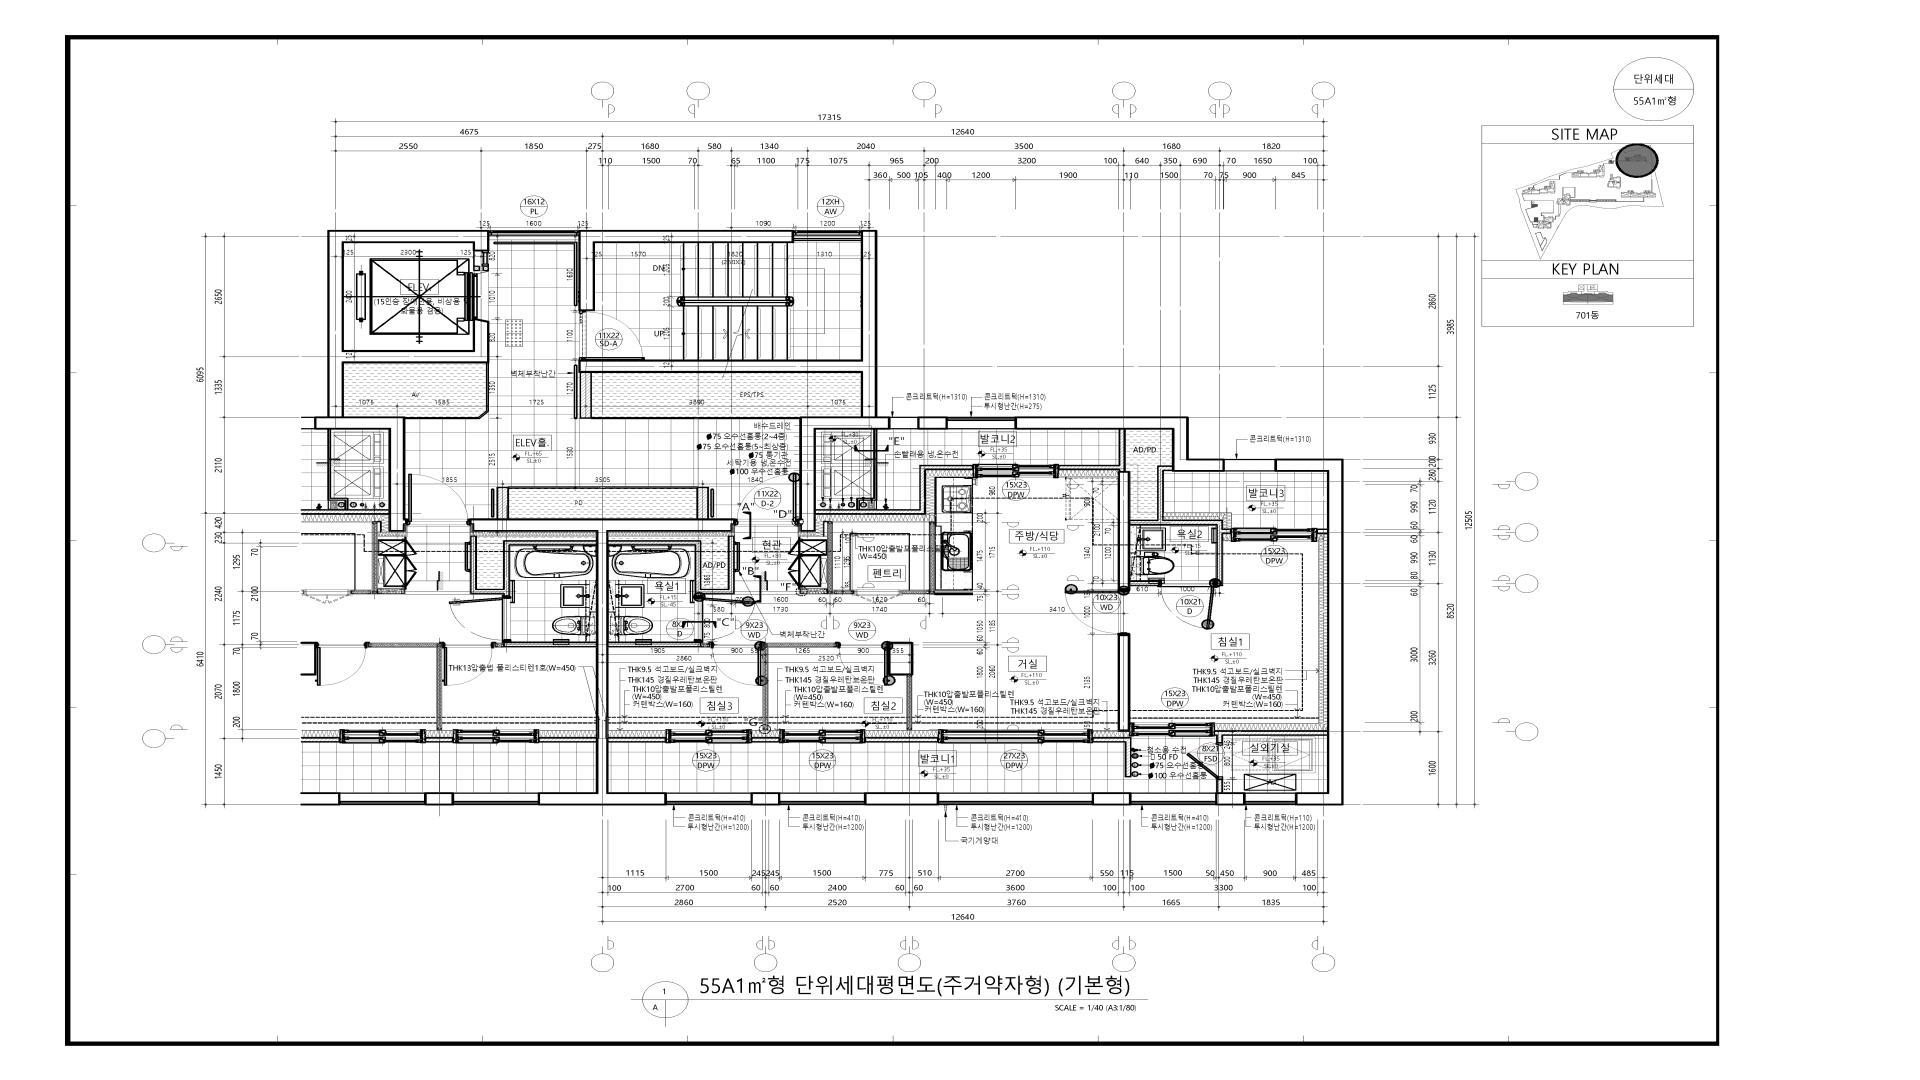door: (579, 311, 645, 360), (736, 473, 796, 526), (694, 595, 757, 642), (1158, 580, 1217, 629), (1064, 591, 1130, 633), (836, 642, 886, 686), (711, 642, 761, 686), (1185, 744, 1224, 779), (853, 589, 901, 604)
wall: (578, 229, 890, 531), (469, 518, 736, 806), (327, 229, 489, 417), (1274, 459, 1344, 806), (578, 229, 794, 311), (1130, 465, 1230, 587), (1014, 417, 1225, 472), (816, 464, 972, 514), (608, 535, 735, 595), (762, 642, 836, 731), (1059, 430, 1126, 471), (901, 522, 935, 595), (827, 518, 853, 595), (1117, 471, 1131, 591), (1093, 737, 1131, 778), (1215, 731, 1327, 744), (1117, 633, 1130, 732), (864, 793, 939, 806), (580, 373, 592, 419), (1092, 793, 1131, 806), (608, 642, 702, 647), (1215, 793, 1246, 806), (496, 487, 509, 518), (696, 487, 709, 518), (750, 793, 781, 806), (918, 417, 948, 430), (865, 737, 938, 742), (906, 675, 913, 731), (608, 737, 666, 742), (935, 589, 973, 595), (1130, 580, 1158, 587), (752, 737, 779, 742), (1216, 778, 1222, 793), (702, 642, 711, 647), (1317, 529, 1327, 534)
window: (938, 729, 1093, 744), (939, 793, 1092, 806), (1230, 527, 1317, 542), (666, 729, 752, 744), (779, 729, 865, 744), (973, 464, 1059, 479), (1130, 723, 1215, 737), (666, 793, 750, 806), (781, 793, 864, 806), (1131, 793, 1215, 806), (489, 229, 578, 240), (794, 229, 861, 243), (948, 417, 1014, 430), (1225, 459, 1274, 472), (1246, 793, 1295, 806), (890, 417, 918, 430)
